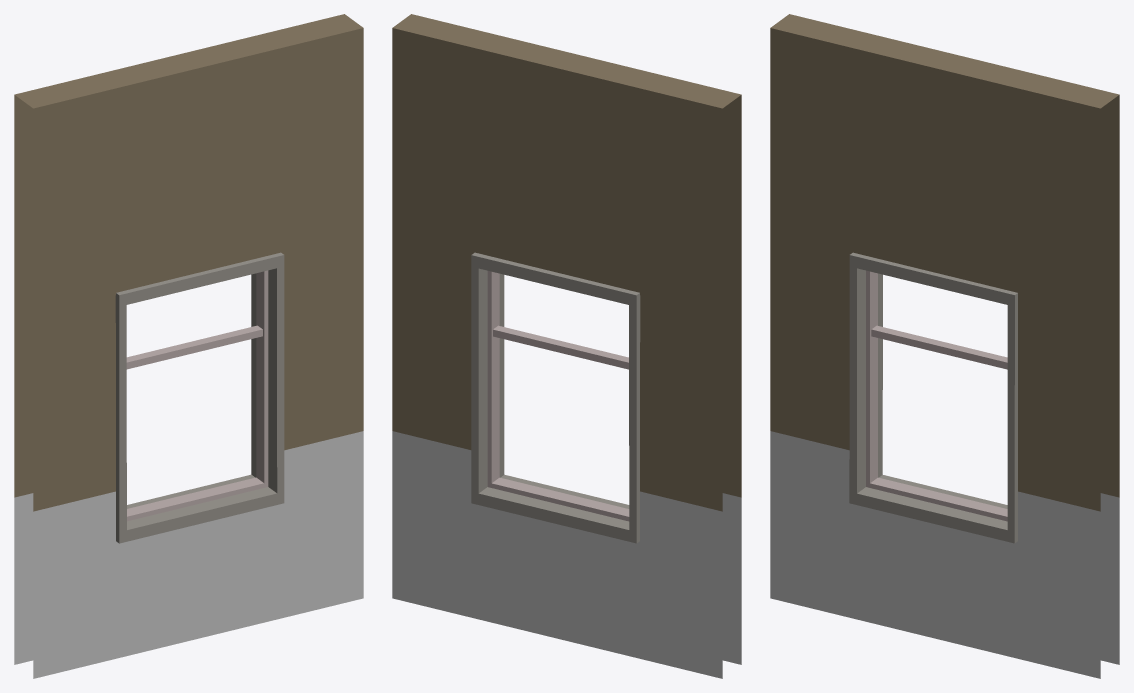
File: SM_Wall_Window_A_200.FBX
3 views of the same model, side by side, from view 1: azimuth 30°, elevation 25°; view 2: azimuth 150°, elevation 25°; view 3: azimuth 330°, elevation 25° (orthographic).
Parts seen in each view (by area): view 1: SM_Wall_Window_A_200; view 2: SM_Wall_Window_A_200; view 3: SM_Wall_Window_A_200.
Boxes of the visible parts, x1=… form: SM_Wall_Window_A_200: x1=14, y1=14, x2=363, y2=678; SM_Wall_Window_A_200: x1=392, y1=14, x2=741, y2=678; SM_Wall_Window_A_200: x1=770, y1=14, x2=1119, y2=678.
Bounding box in the file's own units: 200 × 27.27 × 330.
